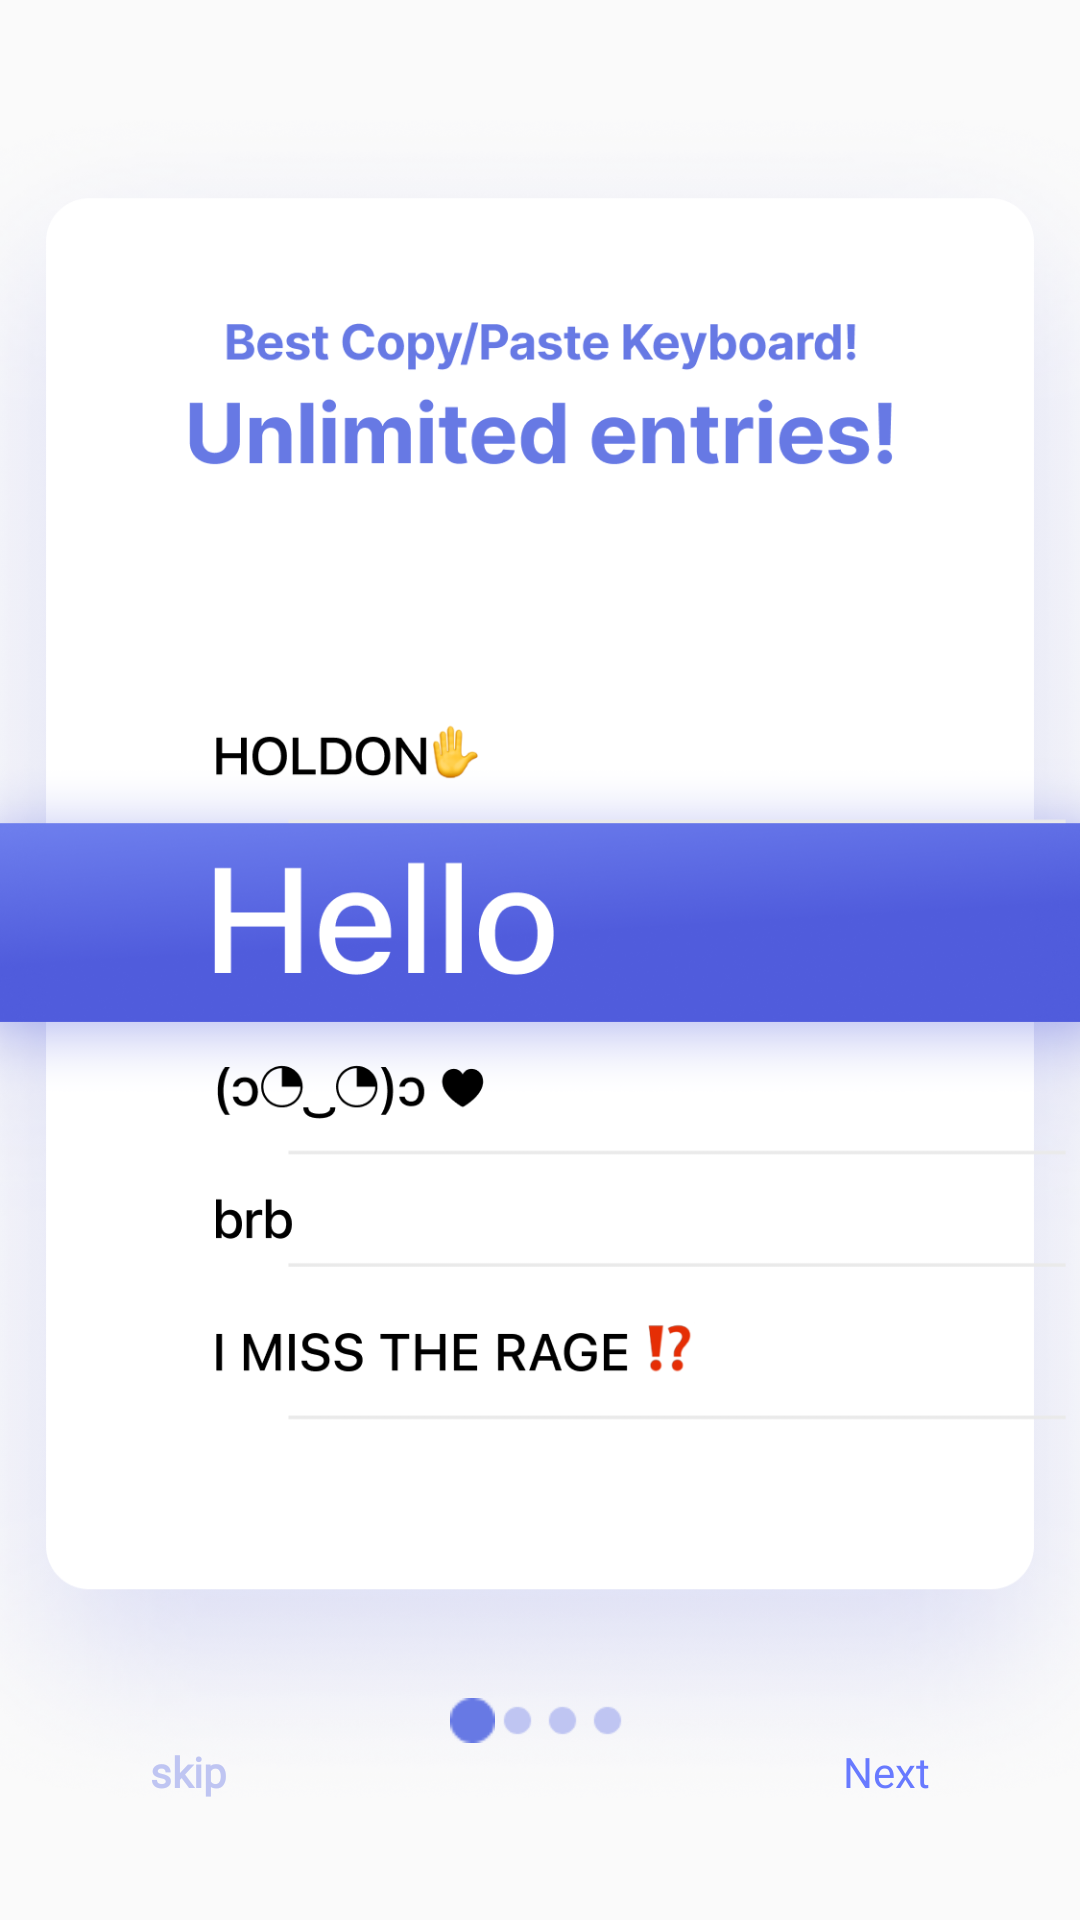

Point at icon controls on the screen. Image size 1080px×1920px, points as point (x, y).
dot: point (472, 1720), point (517, 1720), point (562, 1720), point (607, 1720)
